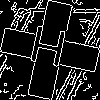H: (25, 25, 70, 77)
